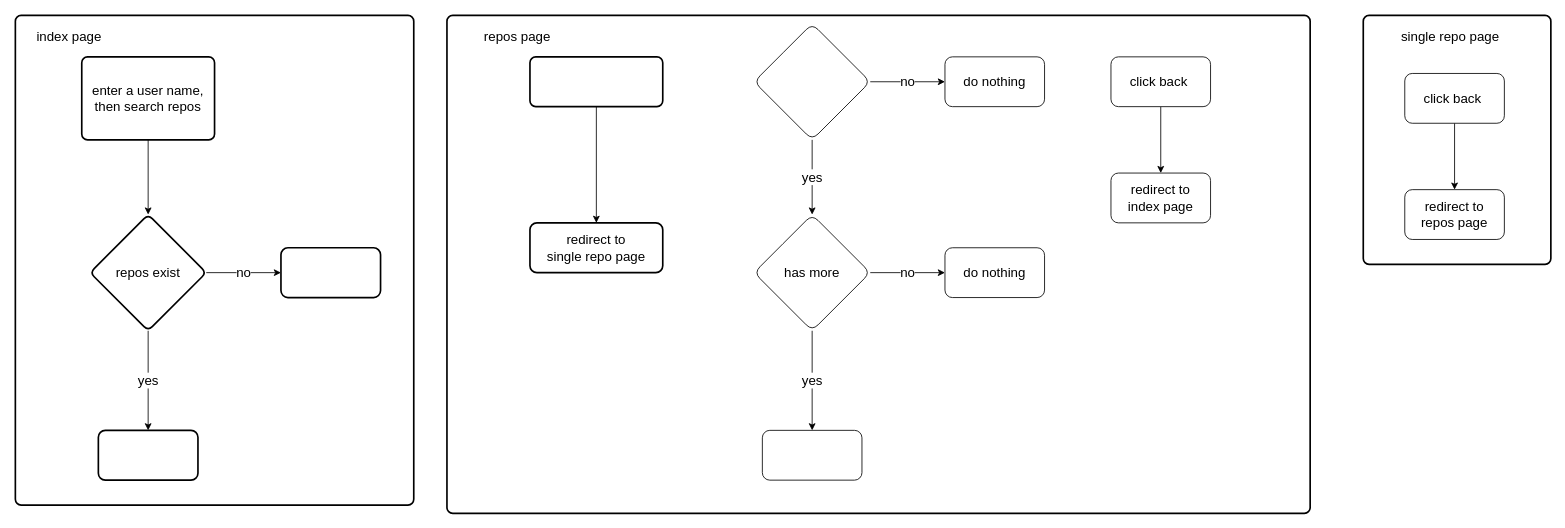
This 1565x528 diagram has some shape labels left out. Here are the shapes that lost their labels. From the top down, the centre of each, then its label:
(596,81): click a repo
(811,81): reach bottom
(330,272): show error
(147,455): redirect to user repos page
(812,455): load next 10 repos
